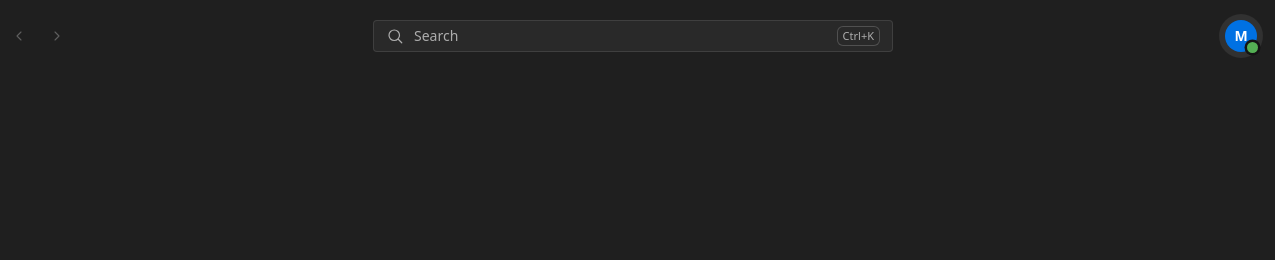
Scenario: shows recent searches in an empty search and reruns a recent query
Focus the field labelled "Search" at (620, 36), box [414,26,827,46]
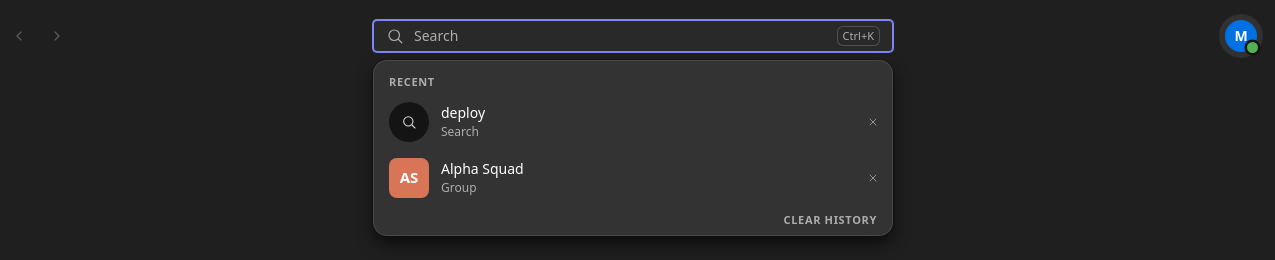
Expected: the element labelled "Recent" shows "deploy", [379,94,851,150]
Click the text "deploy" at (463, 113), box [441,103,485,123]
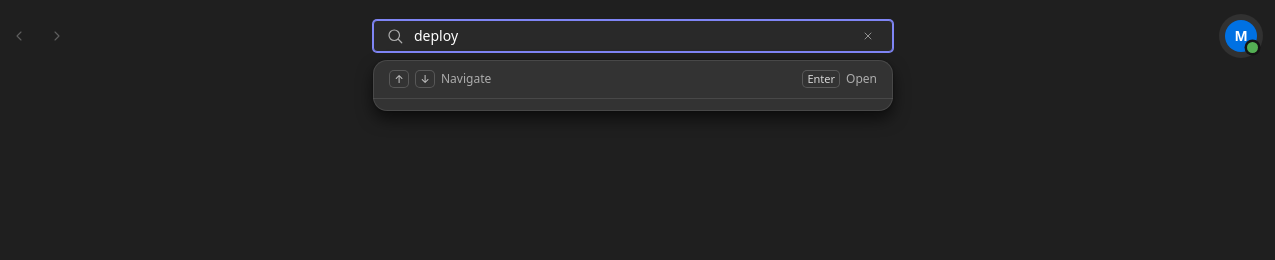
Expected: the field named "Search" holds "deploy", [414,26,846,46]
